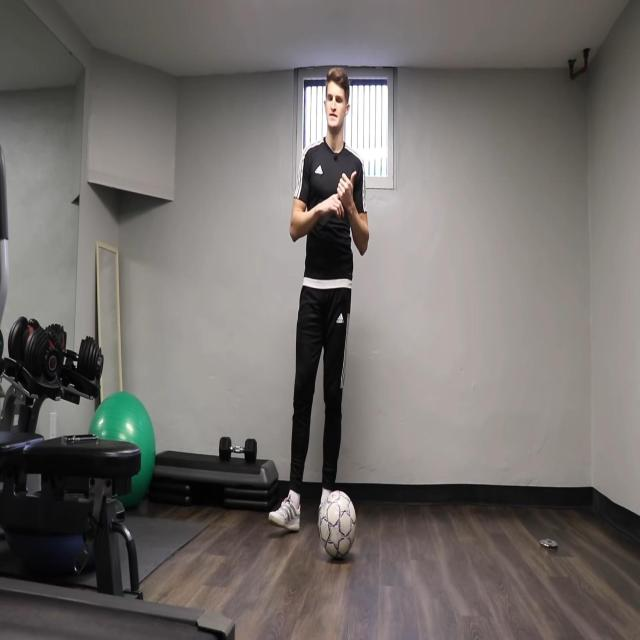Soccer Ball: (318, 490, 357, 561)
